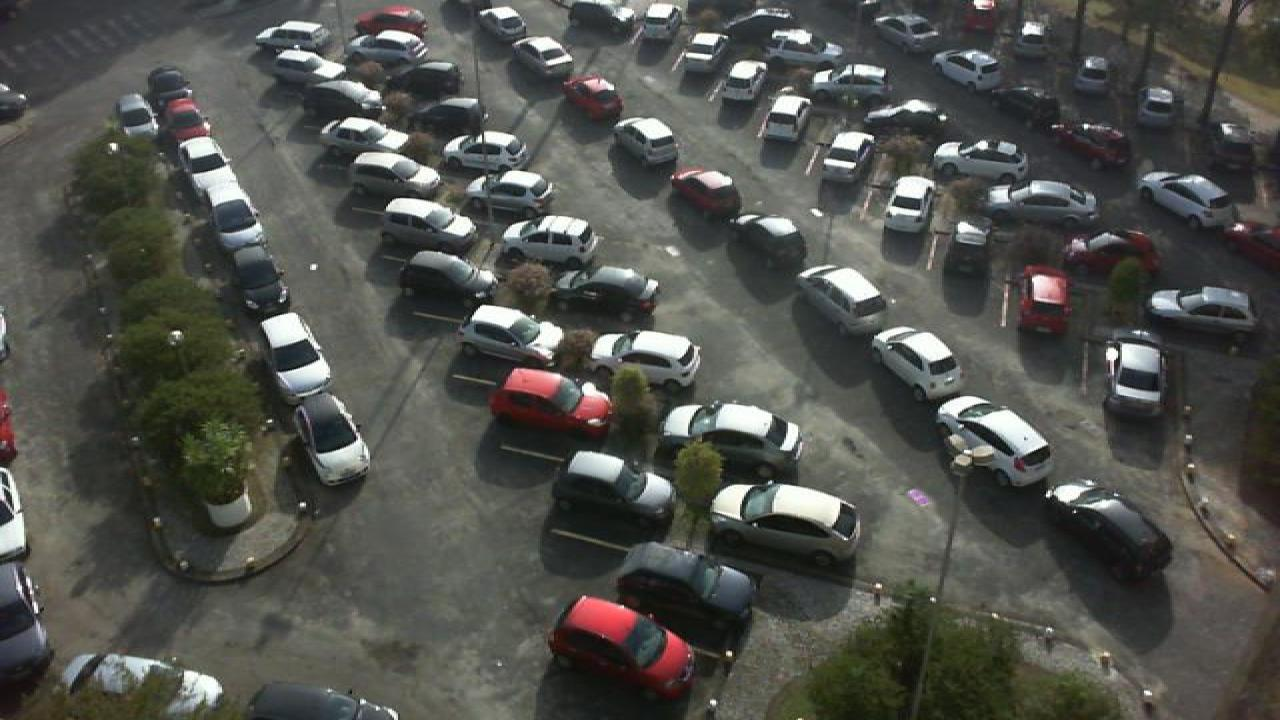Car: (546, 595, 698, 702), (614, 541, 758, 641), (706, 480, 866, 570), (1046, 479, 1176, 583), (934, 394, 1056, 492), (660, 401, 810, 478), (548, 450, 678, 537), (62, 652, 226, 720), (490, 367, 612, 440), (290, 392, 372, 488), (586, 331, 702, 396), (796, 264, 890, 338), (874, 326, 966, 400), (256, 312, 334, 397), (460, 304, 570, 364), (0, 566, 54, 686), (1136, 168, 1240, 230), (248, 680, 402, 720), (398, 250, 496, 310), (1146, 286, 1262, 335), (382, 196, 482, 252), (1106, 330, 1168, 420), (556, 266, 662, 318), (986, 179, 1100, 226), (502, 215, 604, 265), (1064, 229, 1162, 279), (348, 151, 446, 200), (726, 214, 808, 271), (206, 194, 268, 266), (1048, 119, 1134, 170), (1014, 264, 1074, 336), (932, 140, 1030, 184), (984, 84, 1068, 133), (176, 135, 236, 201), (854, 99, 952, 139), (482, 170, 560, 218), (942, 218, 1000, 282), (668, 170, 744, 218), (286, 79, 384, 116), (318, 117, 408, 157), (792, 61, 888, 97), (932, 48, 1008, 93), (882, 174, 938, 234), (612, 117, 680, 165), (230, 262, 292, 313), (726, 27, 816, 62), (382, 61, 460, 101), (254, 54, 348, 87), (408, 98, 486, 137), (444, 132, 528, 168), (818, 130, 876, 182), (562, 77, 626, 122), (510, 36, 576, 78), (756, 94, 810, 144), (260, 20, 342, 52), (874, 14, 940, 52), (350, 32, 428, 64), (158, 98, 214, 140), (566, 0, 640, 30), (356, 6, 428, 36), (706, 61, 758, 102), (116, 94, 160, 140), (1206, 118, 1250, 163), (148, 66, 196, 104), (1136, 86, 1178, 128), (478, 6, 528, 40), (1072, 55, 1112, 95), (640, 4, 684, 40), (1012, 21, 1050, 57), (962, 0, 1000, 34)
